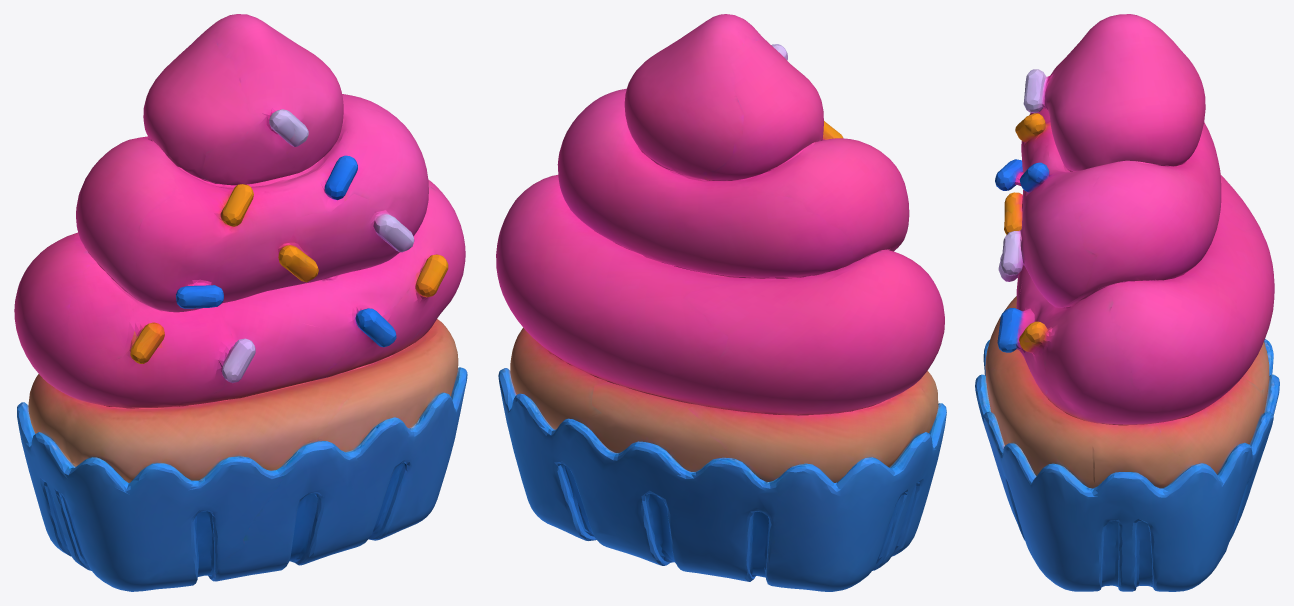
Rendered from cupcake.glb.
3 renders of one model, left to right at view 1: azimuth 30°, elevation 25°; view 2: azimuth 150°, elevation 25°; view 3: azimuth 270°, elevation 25°, orthographic. The views are drawn at different scales.
Parts seen in each view (by area): view 1: model; view 2: model; view 3: model.
Part boxes in pixels (x1,y1,x2,y2): model: (14,14,467,591); model: (496,14,946,591); model: (975,14,1279,591).
Bounding box in the file's own units: 0.861 × 1 × 0.5483.
1 material, 1 textured.
